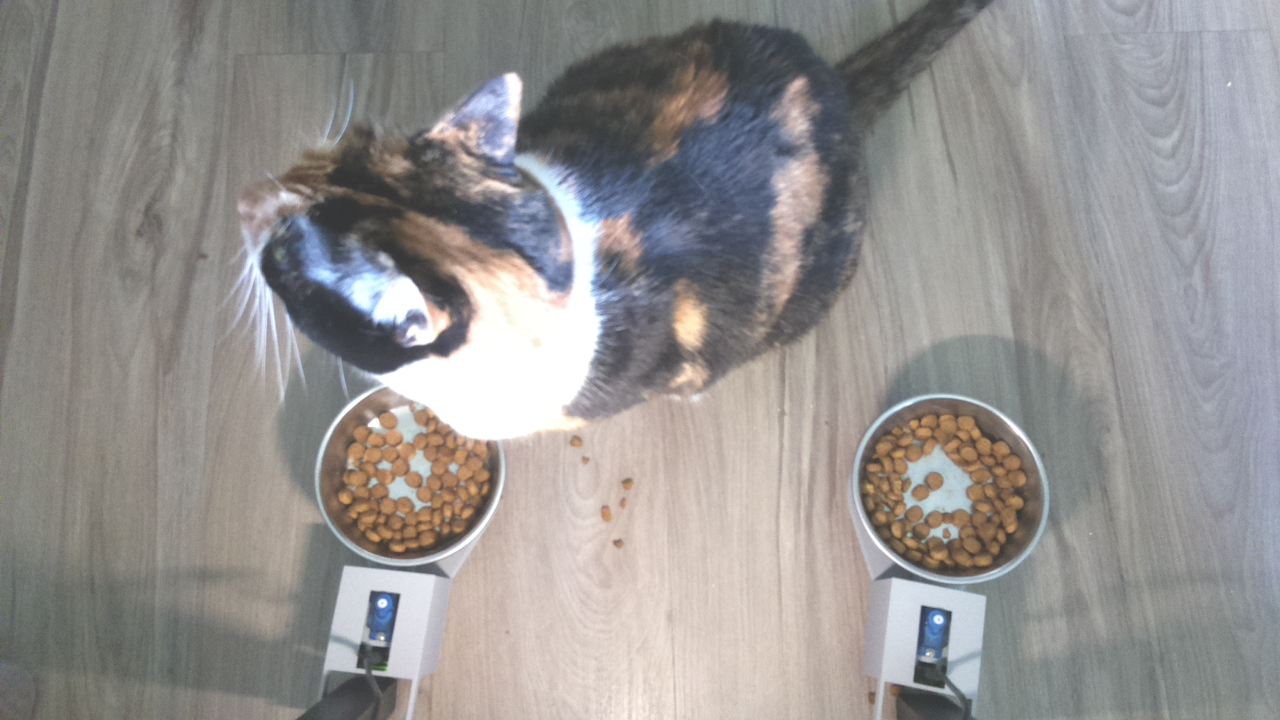bella: (218, 62, 565, 406)
open_bowl: (847, 392, 1051, 585), (309, 394, 511, 568)
